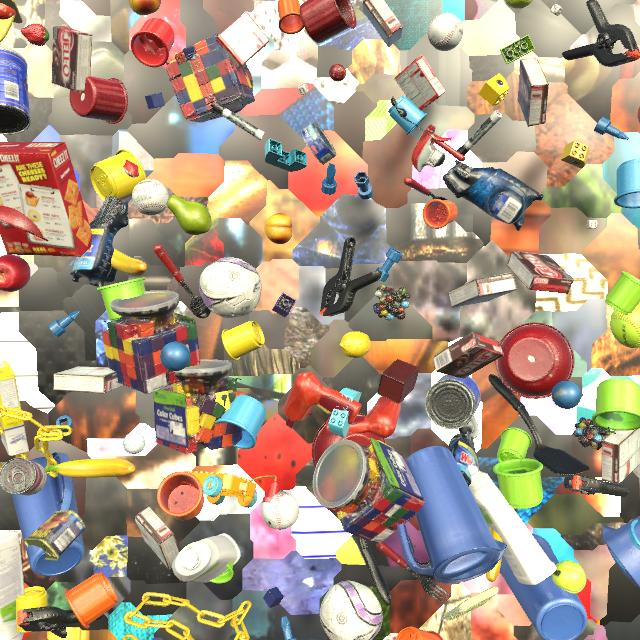ycb_002_master_chef_can: (425, 375, 481, 430), (0, 47, 30, 135)
ycb_003_cracker_box: (0, 142, 93, 257)
ycb_004_sugar_box: (0, 361, 29, 456)
ycb_005_tomato_soup_can: (0, 458, 47, 495)
ycb_007_tuna_fish_can: (300, 122, 336, 165)
ycb_008_pudding_box: (433, 332, 504, 379), (135, 505, 180, 570), (507, 251, 574, 294), (52, 26, 92, 93), (448, 273, 517, 308), (601, 428, 640, 484), (518, 58, 549, 127), (53, 366, 124, 394), (362, 0, 403, 48)
ycb_009_gelatin_box: (215, 11, 270, 70), (394, 56, 446, 111)
ycb_010_potted_meat_can: (24, 510, 86, 561)
ycb_011_banana: (45, 459, 136, 478), (111, 248, 147, 277), (486, 526, 503, 582)
ycb_012_strawberry: (21, 23, 49, 46), (75, 0, 83, 1)
ycb_013_apple: (0, 255, 31, 292)
ycb_014_lemon: (339, 331, 371, 358)
ycb_015_peach: (264, 213, 292, 244), (129, 0, 161, 15)
ycb_016_pear: (167, 195, 212, 235)
ycb_017_orange: (637, 106, 640, 123)
